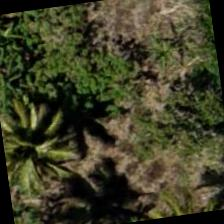Kelapa_Sawit: (0, 92, 79, 192)
